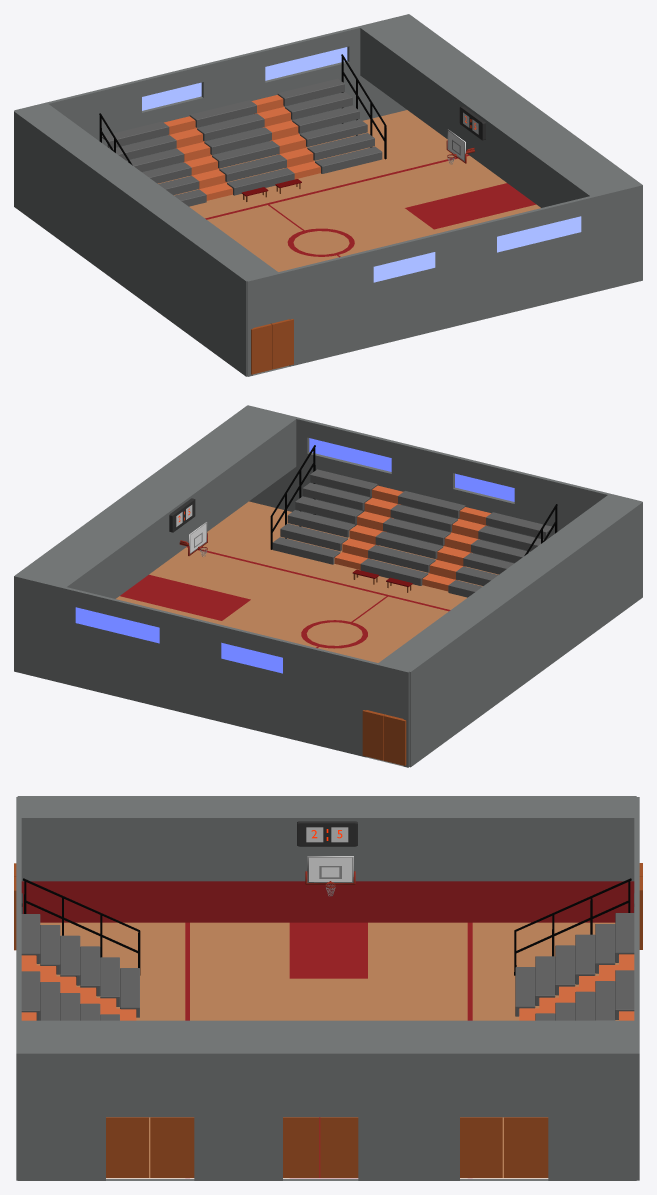
Rendered from NightGym.fbx.
The picture shows the model from 3 angles, top to bottom: view 1: azimuth 30°, elevation 25°; view 2: azimuth 150°, elevation 25°; view 3: azimuth 270°, elevation 25°; orthographic projection. The views are drawn at different scales.
Visible parts, largest first — view 1: wall6.004; view 2: wall6.004; view 3: wall6.004.
Boxes of the visible parts, bbox=[...] form: wall6.004: bbox=[14, 14, 642, 376]; wall6.004: bbox=[14, 405, 642, 767]; wall6.004: bbox=[14, 796, 642, 1180].
Size of the model in its own units: 3205 by 740 by 3307.
